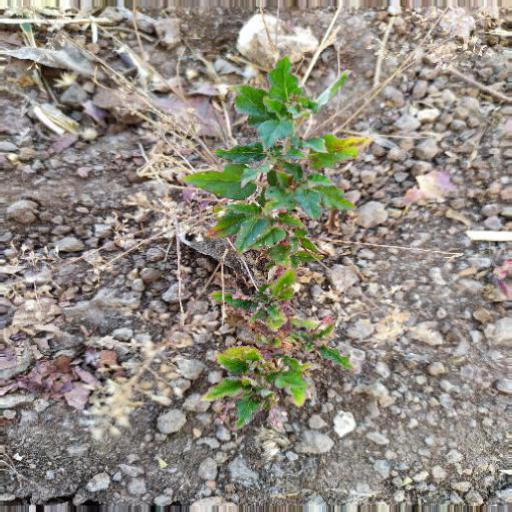weed: (162, 58, 382, 430)
